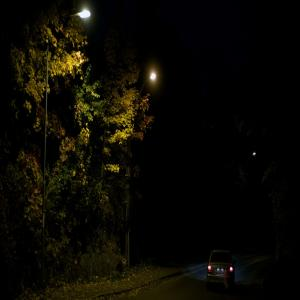Vehicle-registration-plate: (217, 270, 226, 276)
